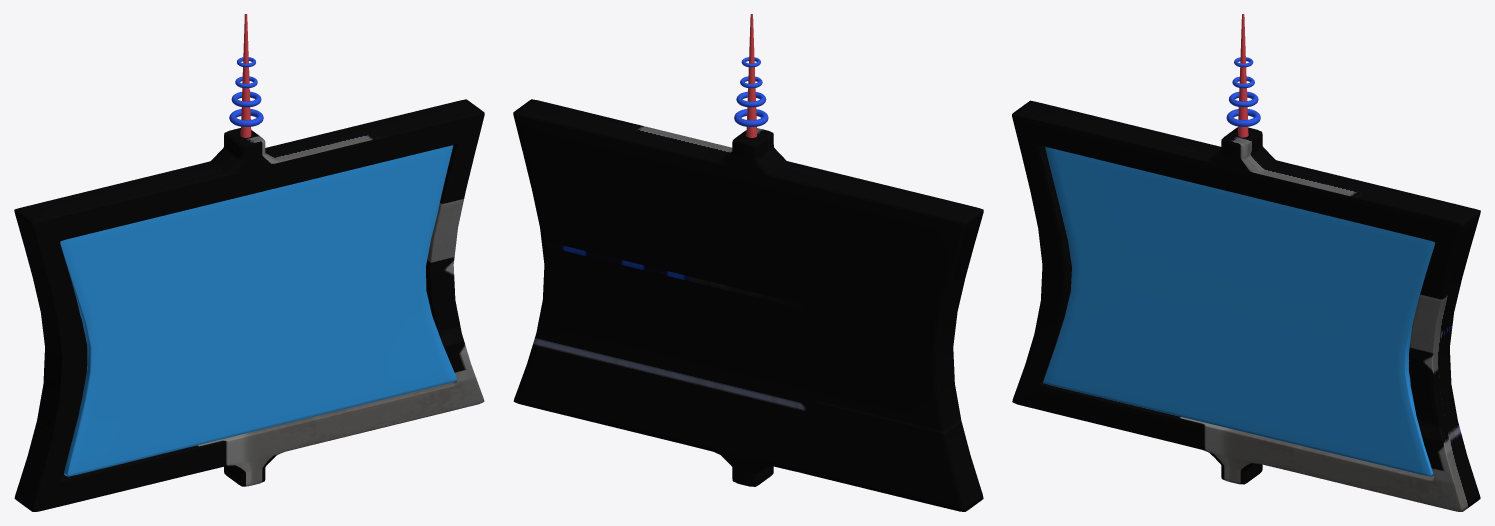
File: Antenna_Floating_billboard_02.fbx
The picture shows the model from 3 angles, left to right: view 1: azimuth 30°, elevation 25°; view 2: azimuth 150°, elevation 25°; view 3: azimuth 330°, elevation 25°; orthographic projection.
Visible parts, largest first — view 1: Plane, Floating_Low_Billboard, Electric_Ring, Antenna; view 2: Floating_Low_Billboard, Electric_Ring, Antenna; view 3: Plane, Floating_Low_Billboard, Electric_Ring, Antenna.
Part boxes in pixels (bbox=[...]): Plane: bbox=[60, 145, 457, 476]; Floating_Low_Billboard: bbox=[14, 99, 484, 511]; Electric_Ring: bbox=[229, 57, 263, 126]; Antenna: bbox=[240, 14, 251, 137]; Floating_Low_Billboard: bbox=[513, 99, 983, 511]; Electric_Ring: bbox=[734, 57, 768, 127]; Antenna: bbox=[746, 14, 757, 137]; Plane: bbox=[1043, 146, 1434, 476]; Floating_Low_Billboard: bbox=[1012, 100, 1480, 511]; Electric_Ring: bbox=[1226, 57, 1260, 126]; Antenna: bbox=[1238, 14, 1248, 137].
Bounding box in the file's own units: 706 × 692 × 56.39.
